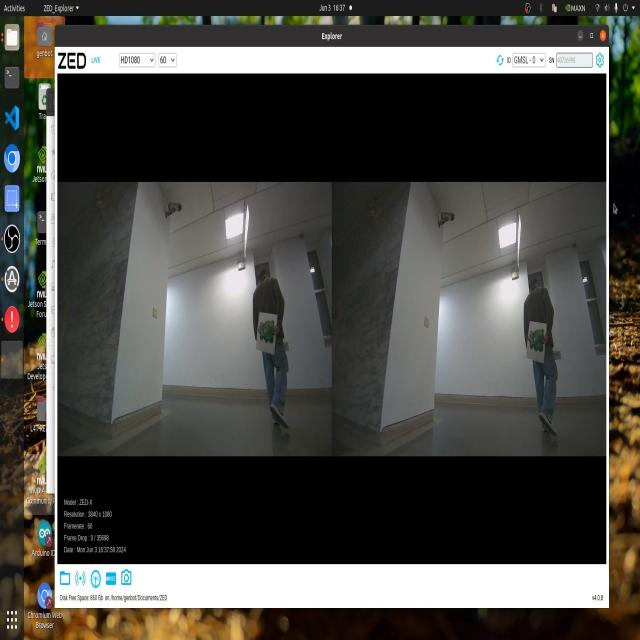green: (252, 312, 285, 360), (523, 319, 550, 358)
